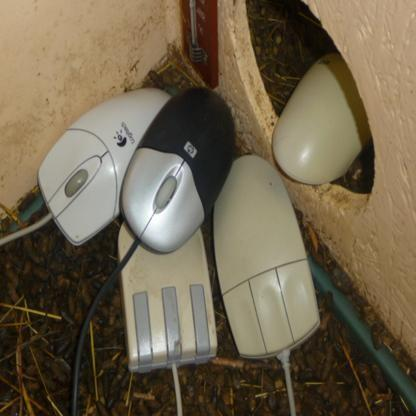not trash: (38, 69, 173, 245), (215, 151, 322, 357), (124, 88, 230, 252), (118, 215, 222, 381), (273, 60, 369, 184)
